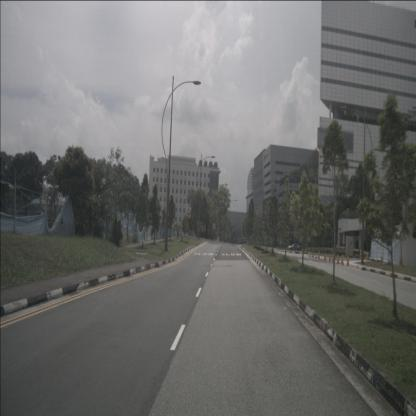movable_object-trafficcone: (340, 254, 344, 265), (336, 254, 340, 264), (398, 257, 402, 267), (346, 256, 350, 266), (328, 253, 332, 262), (318, 250, 321, 260), (324, 251, 327, 261), (332, 254, 335, 263), (380, 255, 383, 264), (360, 252, 362, 260), (366, 252, 368, 260)
vehicle-car: (288, 244, 300, 252)
